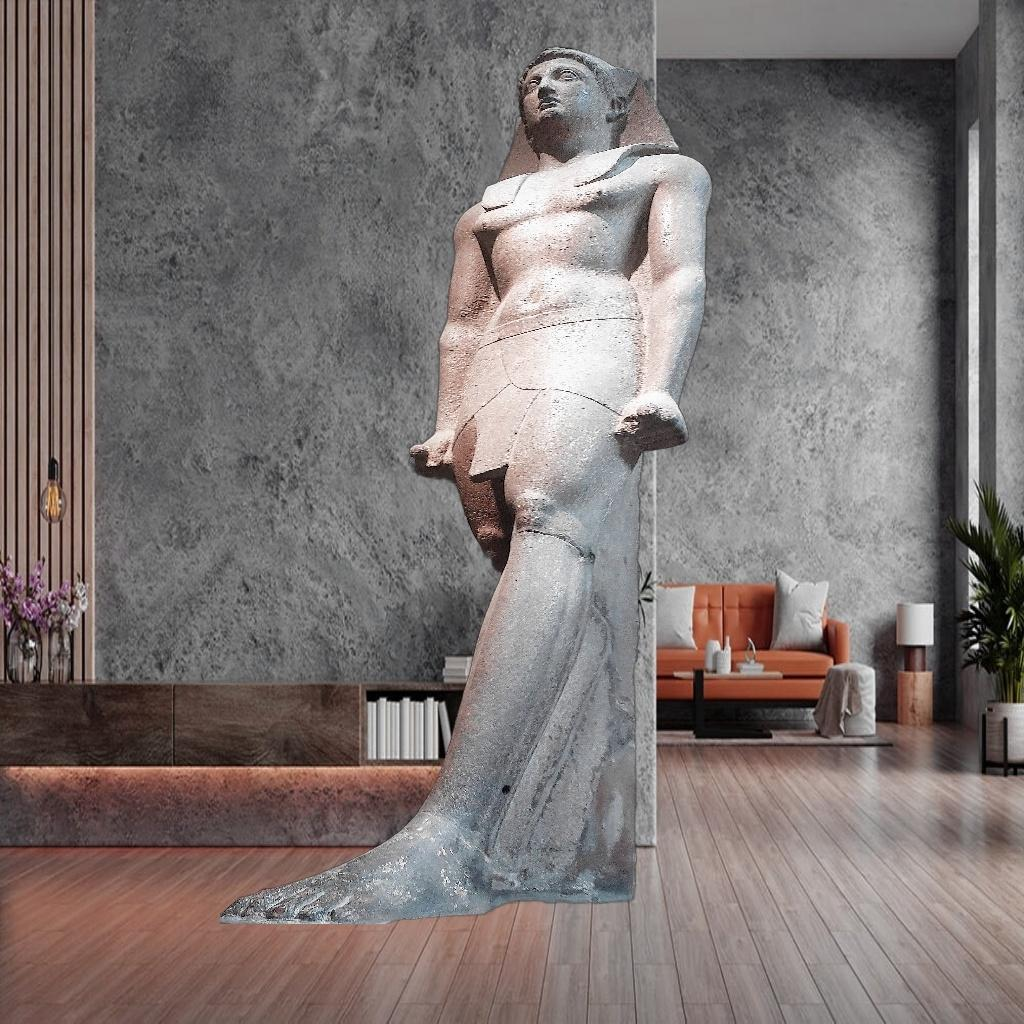Augustus: (220, 45, 714, 924)
